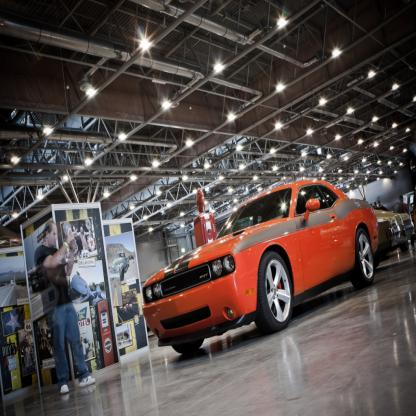Car: (144, 181, 380, 356), (375, 206, 416, 258), (111, 254, 131, 281)
